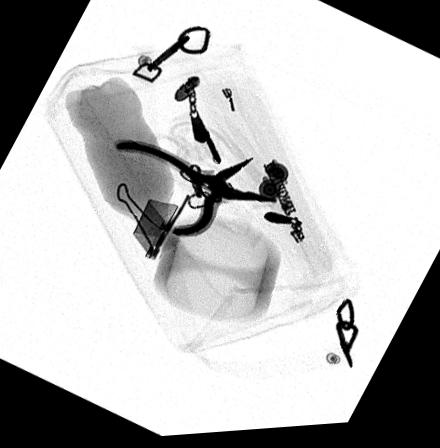Pliers: (114, 140, 279, 242)
